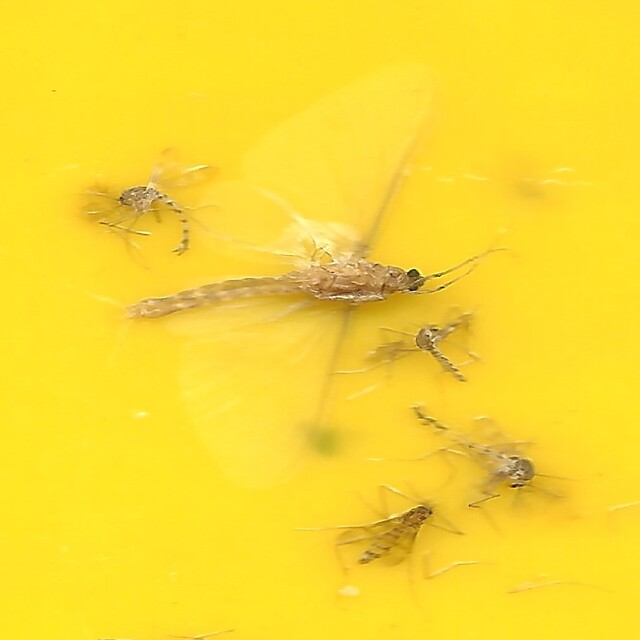Ephemeroptera: (130, 61, 442, 499)
Nematocera: (393, 403, 542, 492), (344, 494, 447, 579), (98, 177, 203, 259), (415, 319, 475, 386)
